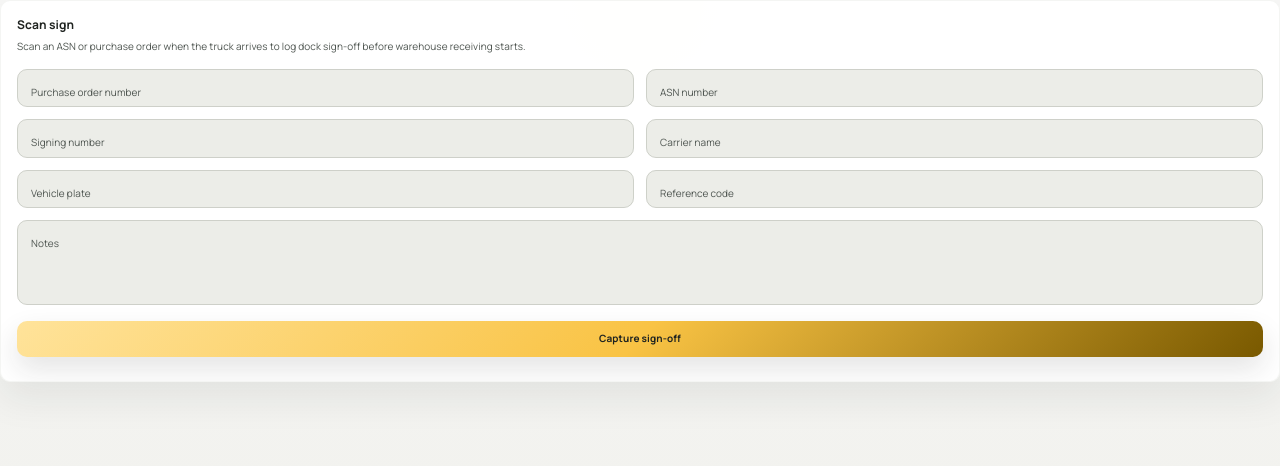
posts scan sign payloads and shows a success message
In the field labelled "Purchase order number": x=326, y=88 [17, 69, 634, 108], type "PO-SIGN-01"
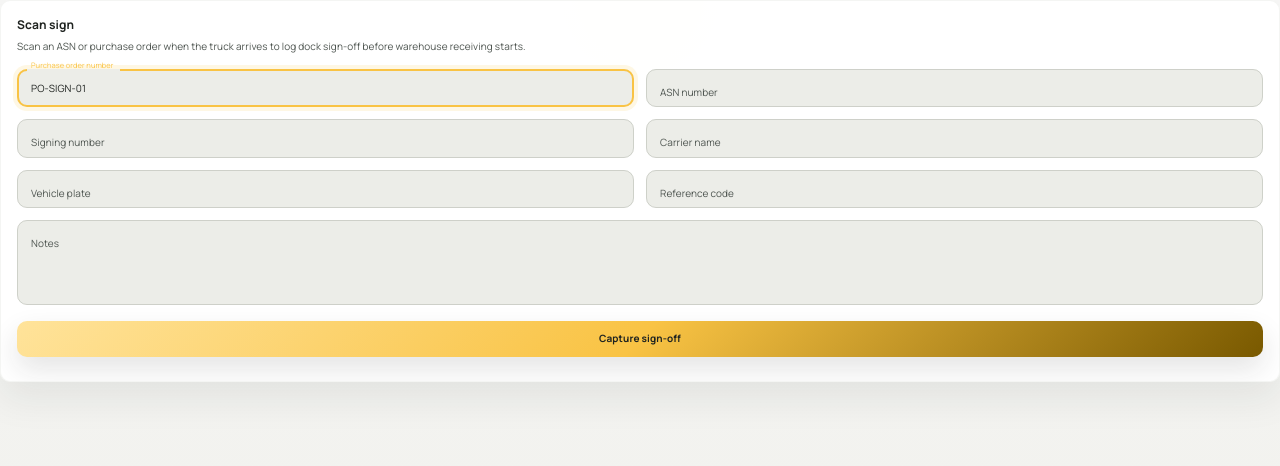
In the field labelled "Signing number": x=326, y=139 [17, 120, 634, 158], type "SIGN-01"
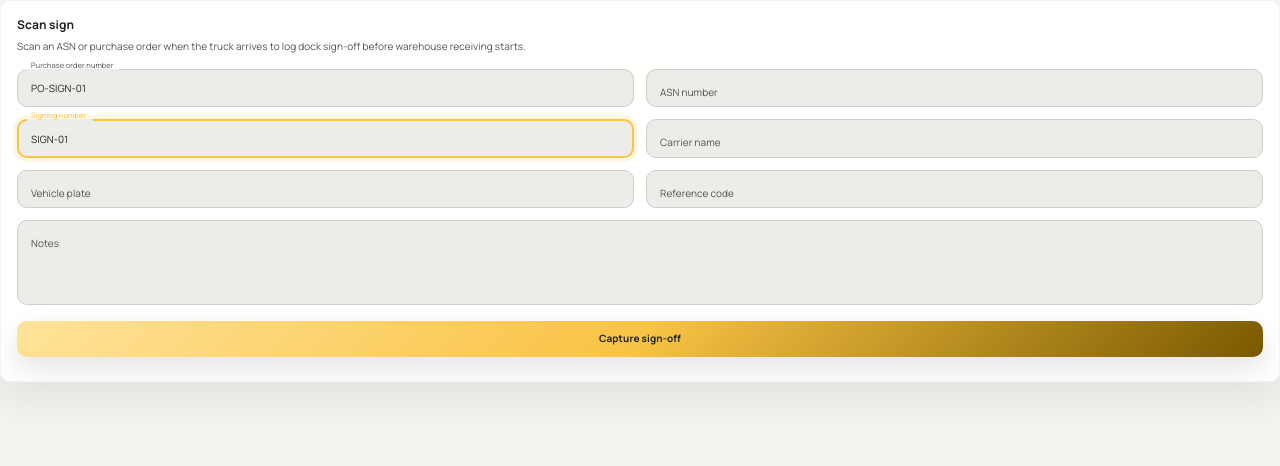
In the field labelled "Carrier name": x=954, y=139 [646, 120, 1263, 158], type "Linehaul Carrier"
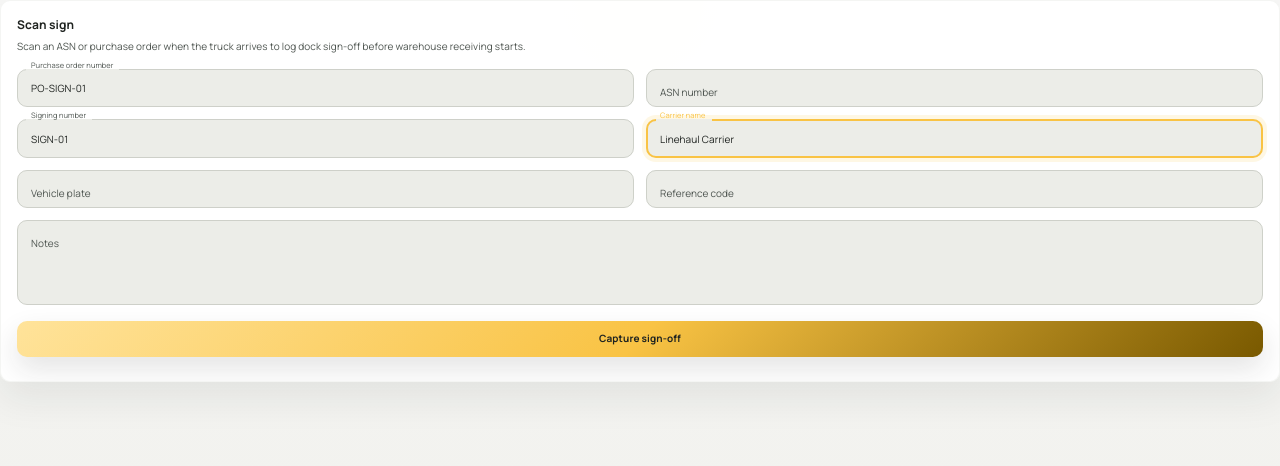
In the field labelled "Vehicle plate": x=326, y=189 [17, 170, 634, 208], type "TRK-01"
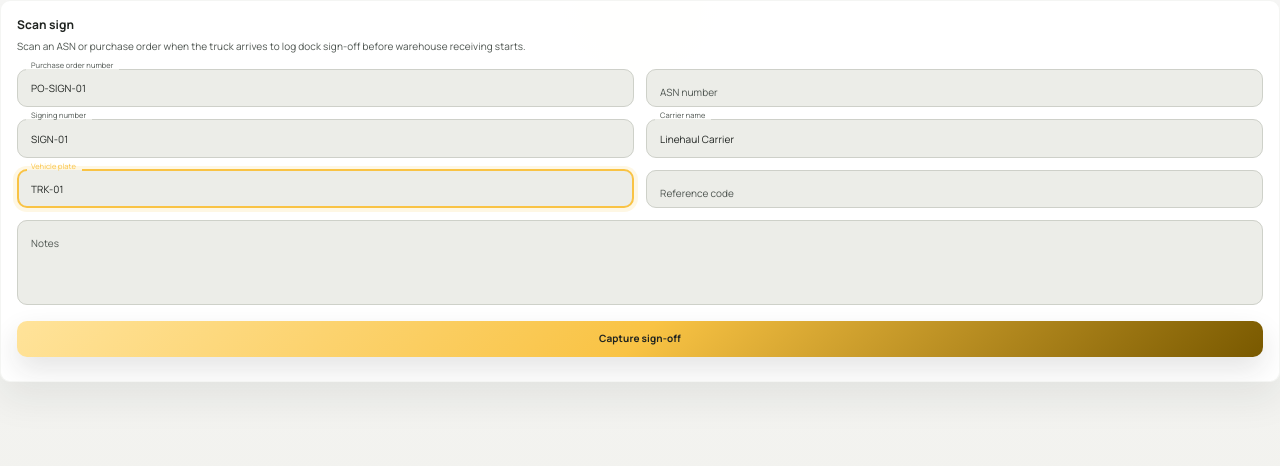
Click the button "Capture sign-off": x=640, y=339 [17, 321, 1263, 357]
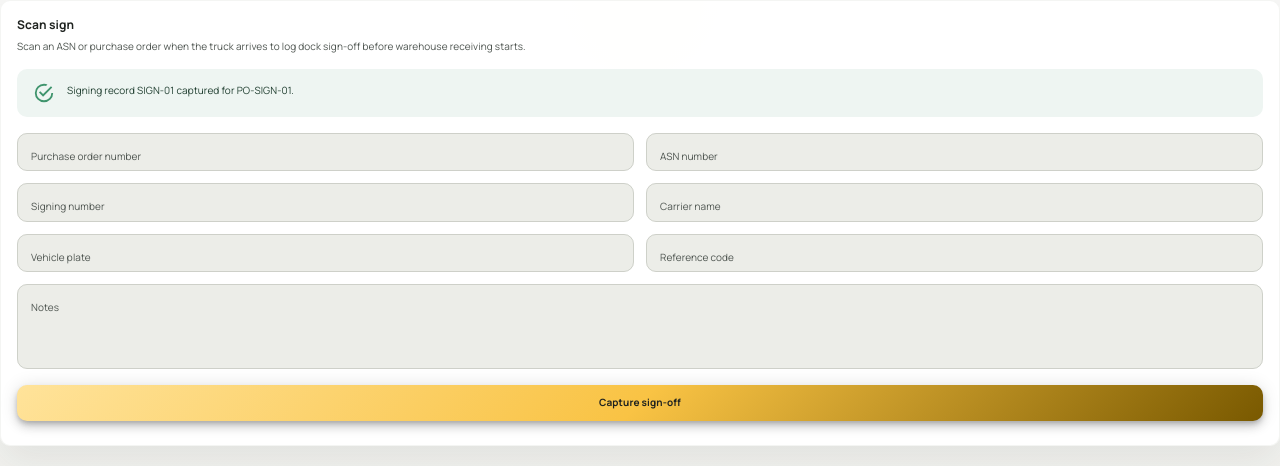
Expected: the text "Signing record SIGN-01 captured for PO-SIGN-01." is shown, [67, 83, 294, 97]
